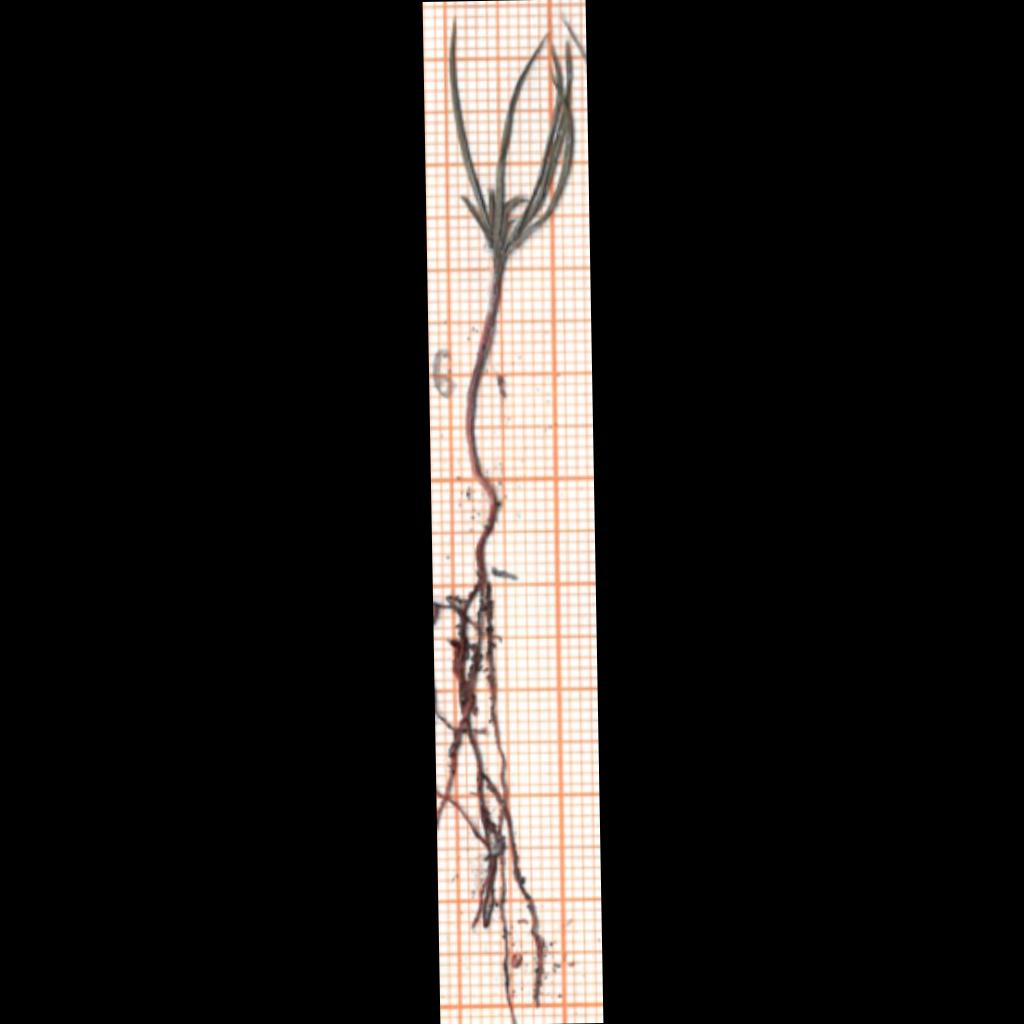flowerPinus: (449, 24, 573, 269)
rootPinus: (436, 584, 543, 1023)
stemPinus: (466, 258, 502, 583)
